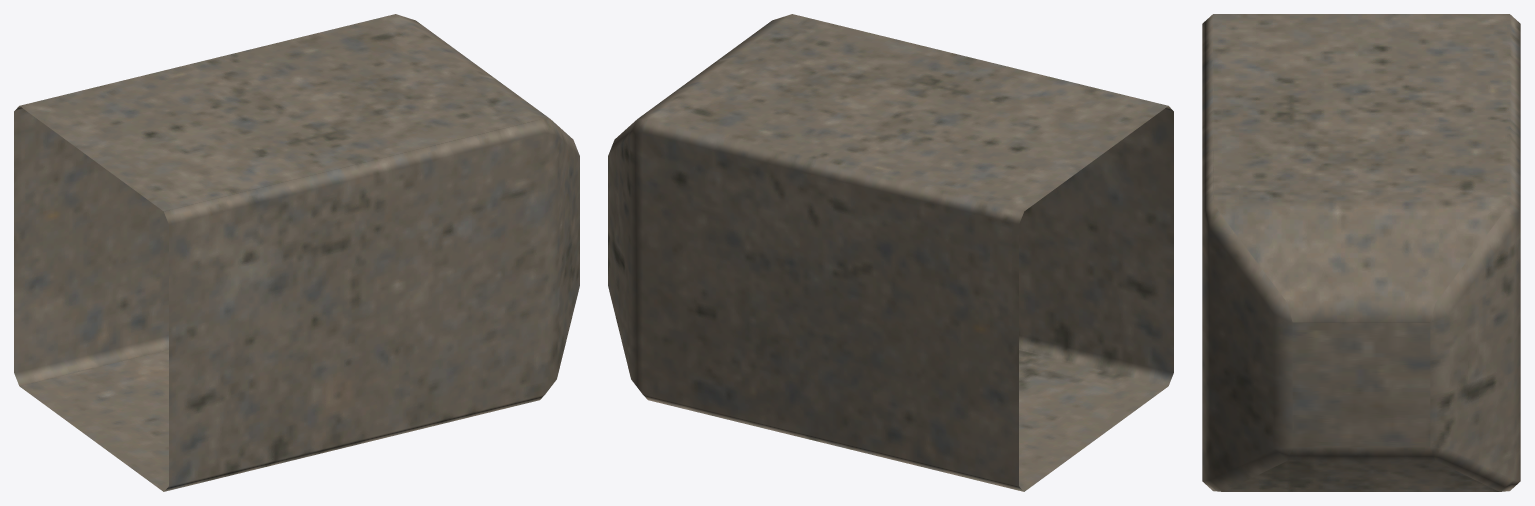
The model's file is cP_GardenLiner01_Post.dae.
3 renders of one model, left to right at view 1: azimuth 30°, elevation 25°; view 2: azimuth 150°, elevation 25°; view 3: azimuth 270°, elevation 25°, orthographic. The views are drawn at different scales.
Parts seen in each view (by area): view 1: cP_GardenLiner01_Post.001; view 2: cP_GardenLiner01_Post.001; view 3: cP_GardenLiner01_Post.001.
Part boxes in pixels (x1,y1,x2,y2): cP_GardenLiner01_Post.001: (14, 14, 579, 491); cP_GardenLiner01_Post.001: (608, 14, 1173, 491); cP_GardenLiner01_Post.001: (1202, 14, 1520, 491).
Size of the model in its own units: 0.3736 by 0.2214 by 0.2214.
